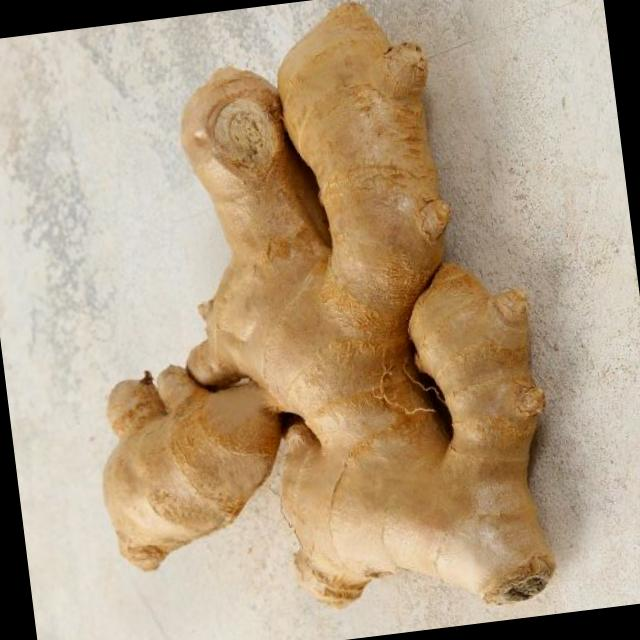ginger-root: (37, 0, 613, 640)
